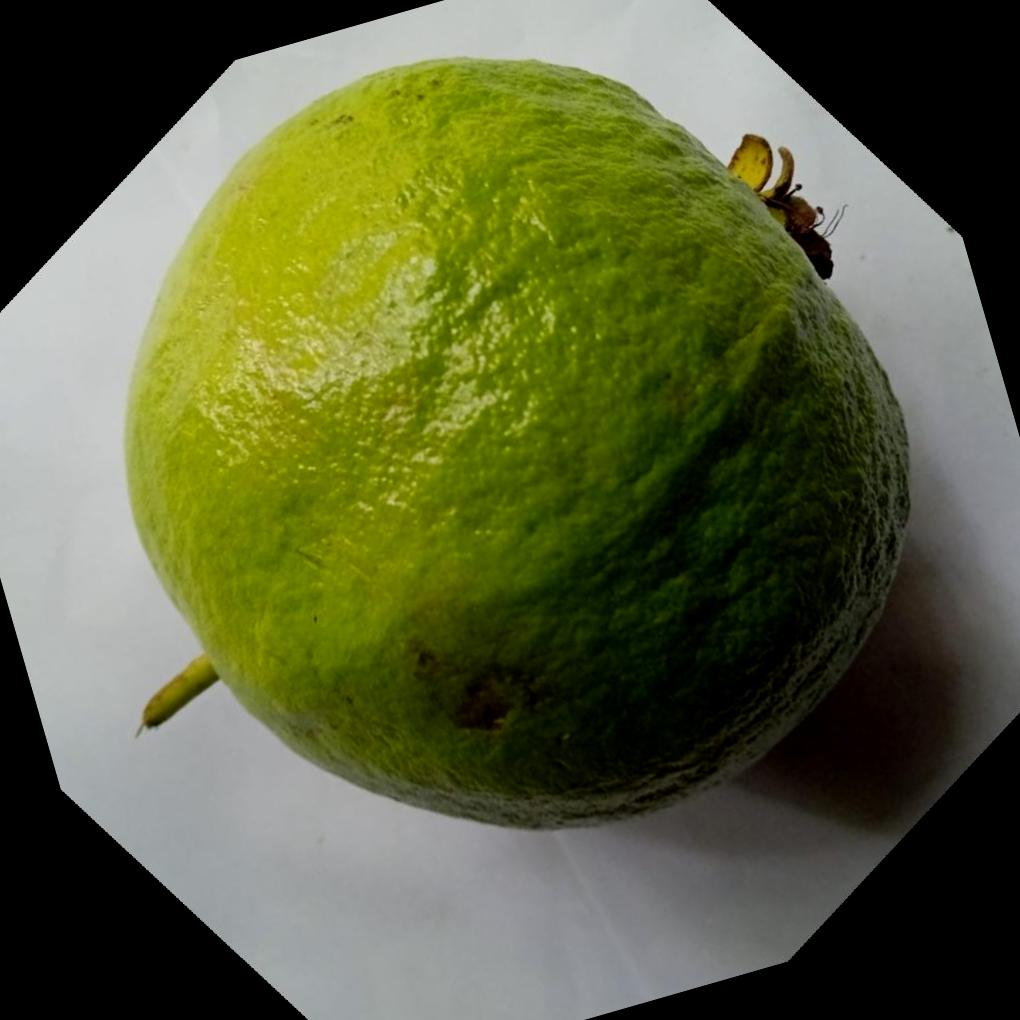FreshGuava: (118, 50, 912, 828)
